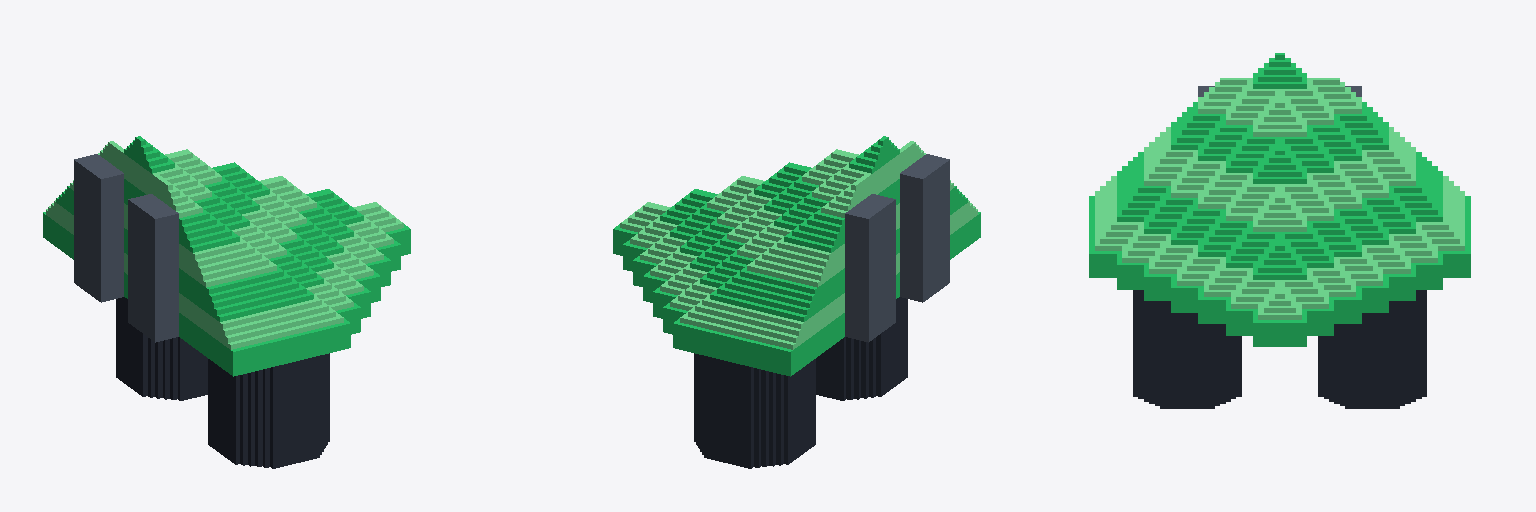
The picture shows the model from 3 angles: view 1: azimuth 30°, elevation 25°; view 2: azimuth 150°, elevation 25°; view 3: azimuth 270°, elevation 25°; orthographic projection.
Parts seen in each view (by area): view 1: object 1; view 2: object 1; view 3: object 1.
Part boxes in pixels (left/top/right/bottom): object 1: left=43, top=136, right=410, bottom=468; object 1: left=613, top=136, right=980, bottom=468; object 1: left=1089, top=53, right=1470, bottom=408.
Bounding box in the file's own units: 6 × 5.9 × 7.
Materials: 1 (1 with a texture image).